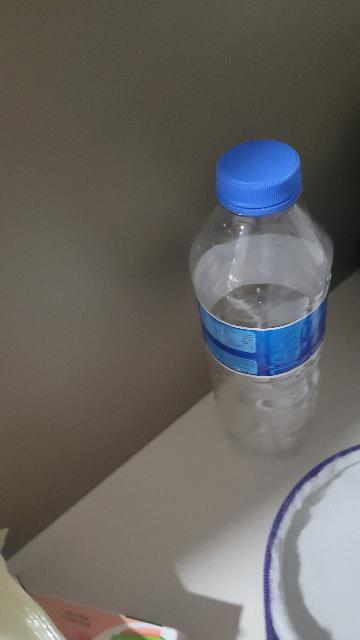Plastik: (183, 138, 335, 463)
